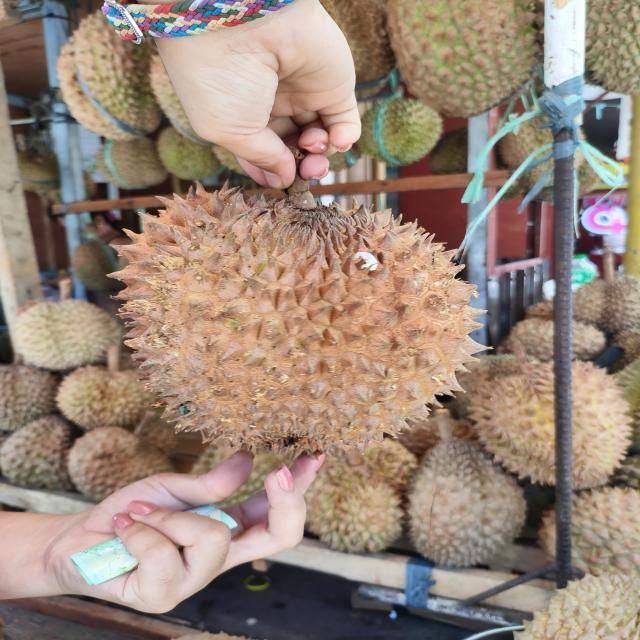mature: (104, 179, 499, 457)
